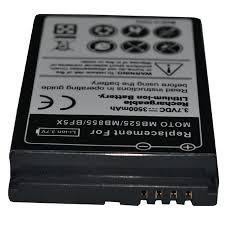battery: (0, 1, 220, 225)
